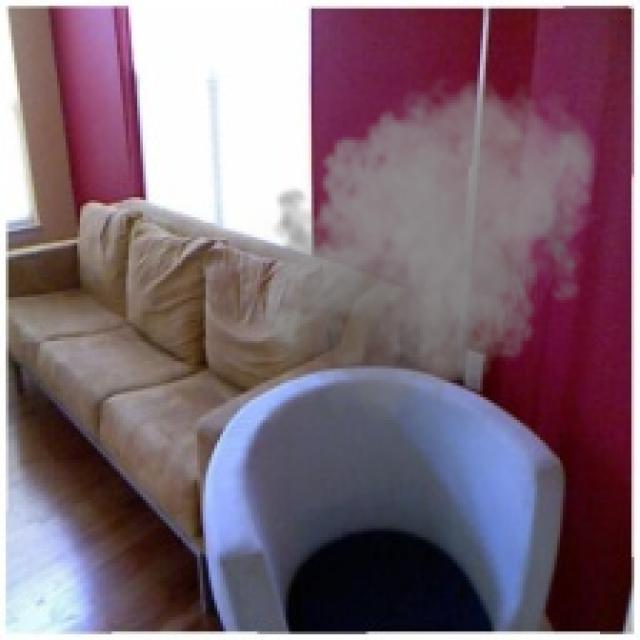smoke: (251, 69, 603, 434)
